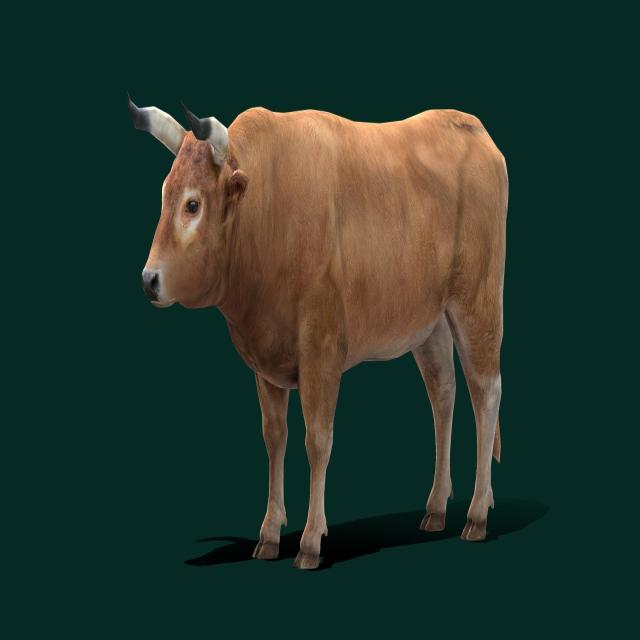Ox: (125, 76, 515, 574)
